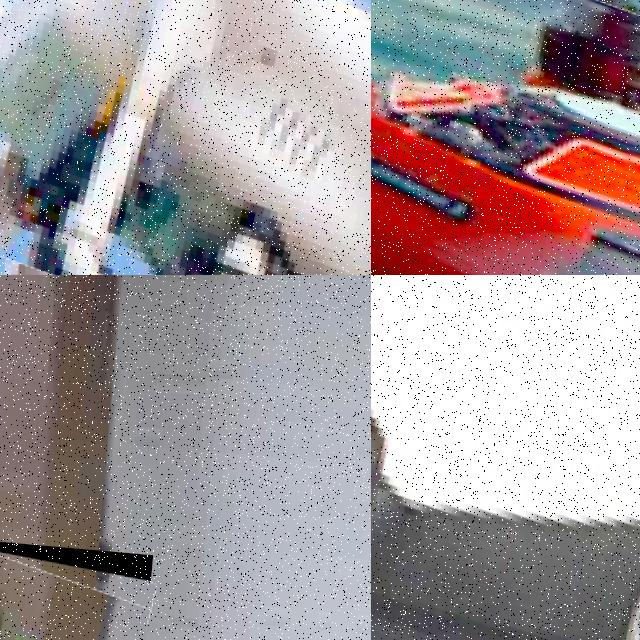0: (0, 532, 153, 640)
drone: (0, 0, 371, 275), (371, 275, 640, 640), (371, 0, 640, 275)
